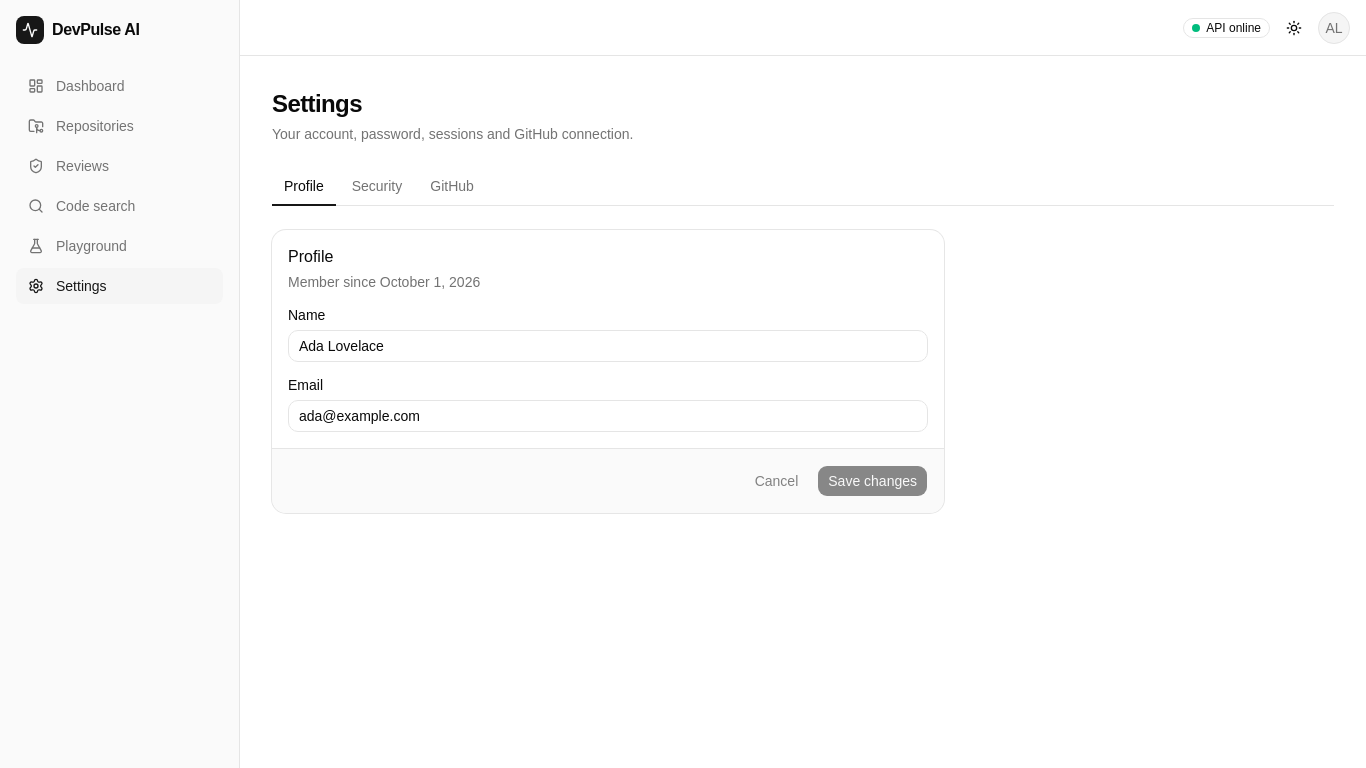
Test: Profile settings › asks for the current password when the email changes
Replace the text in the field labelled "Email" with "ada.king@example.com" at x=608, y=416, box [288,400,928,432]
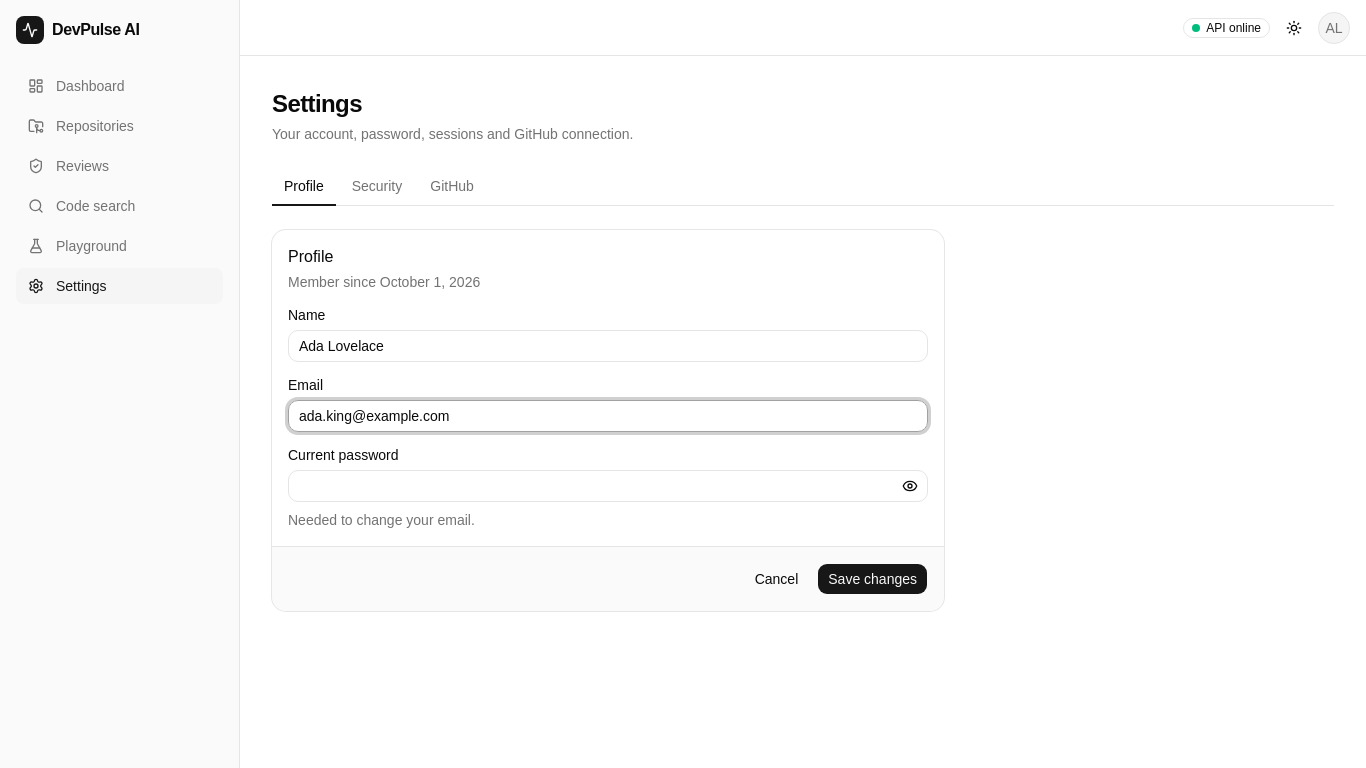
Expected: the password field labelled "Current password" is shown, [288,470,928,502]
Click the button "Save changes".
click(873, 579)  # box [817,563,928,595]
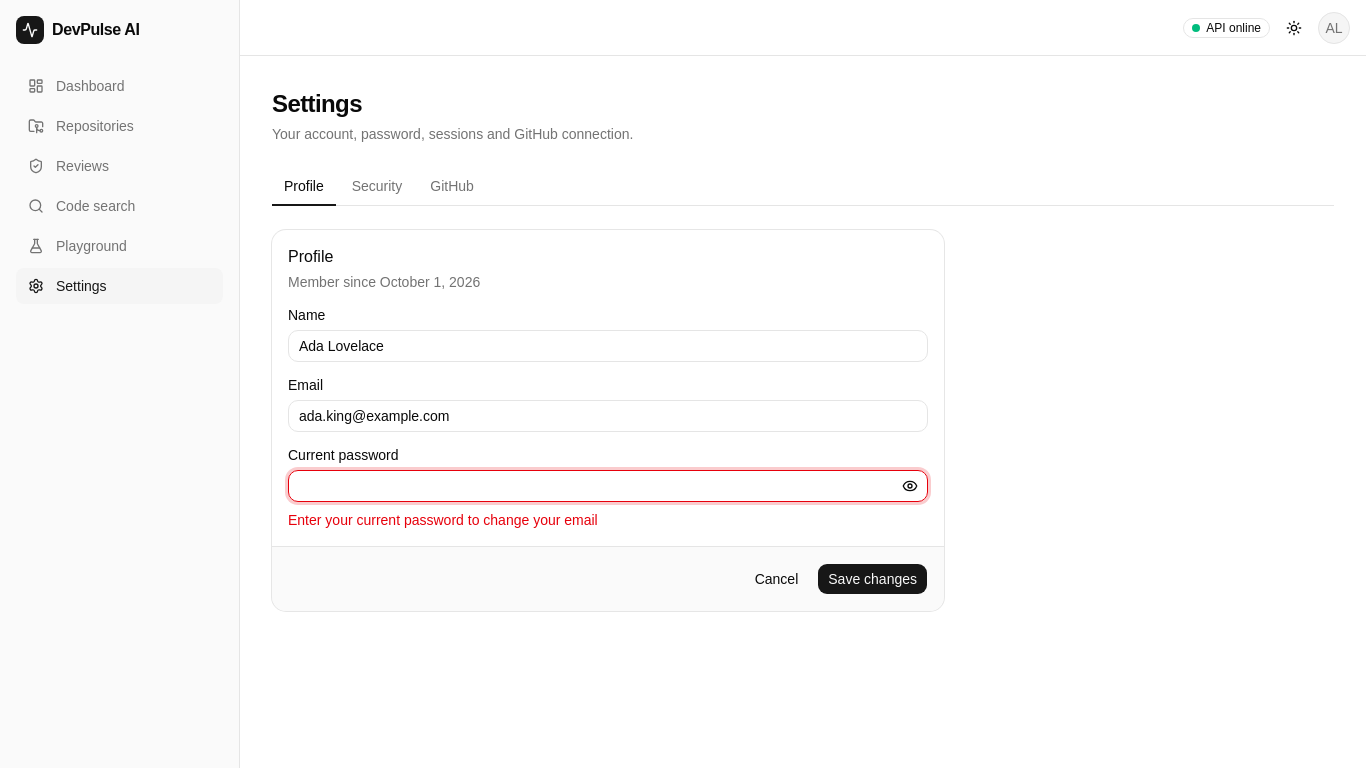
Expected: the text "Enter your current password to change your email" is shown, [288,512,598,528]
Type "wrong-password" into the password field labelled "Current password".
click(608, 486); type("wrong-password")  # box [288,470,928,502]
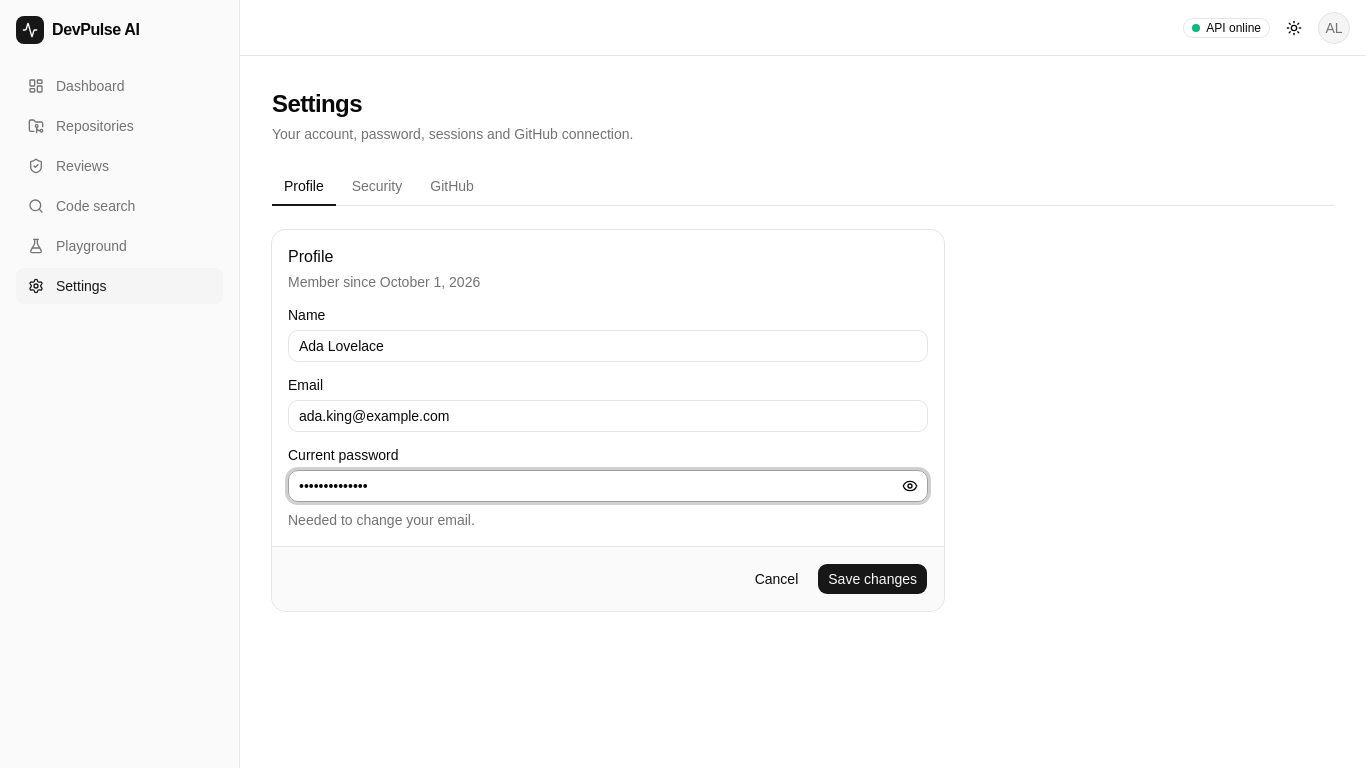
Click the button "Save changes".
click(873, 579)  # box [817,563,928,595]
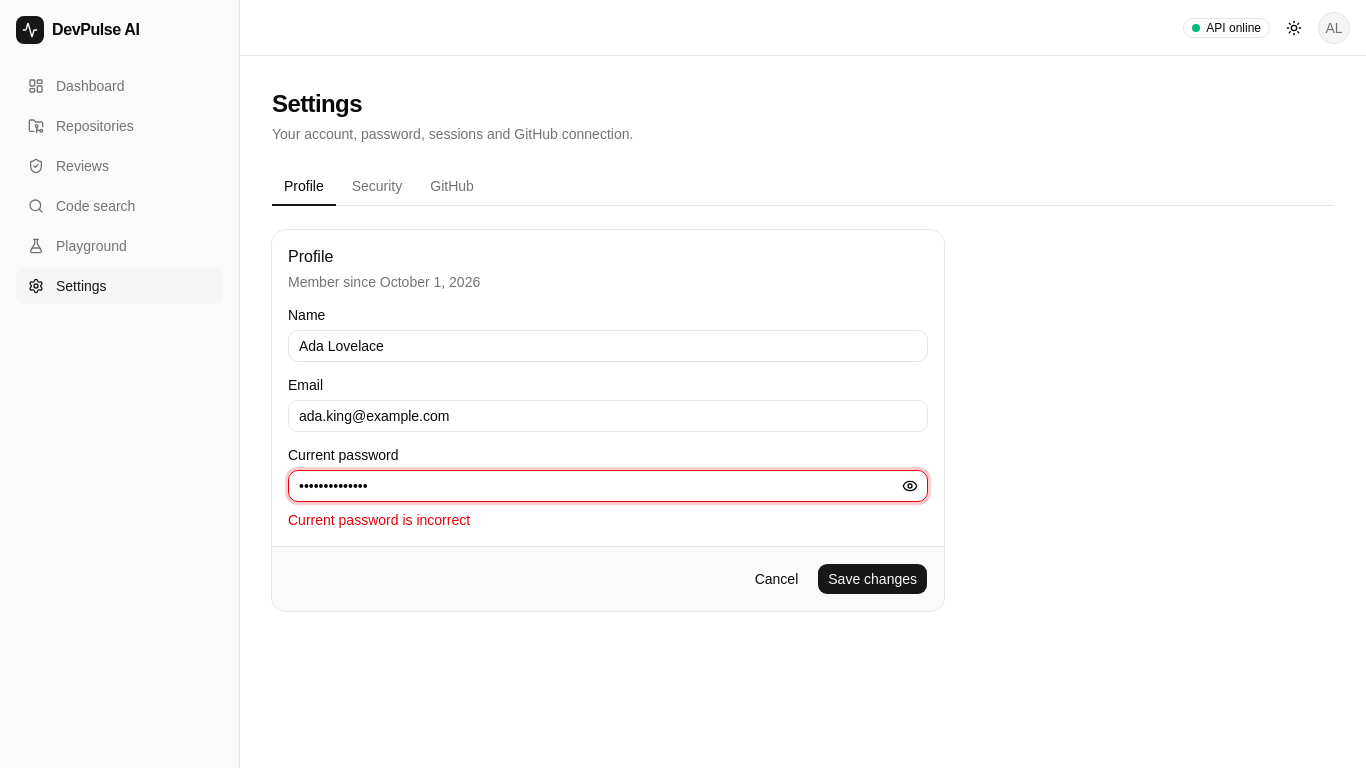
Expected: the text "Current password is incorrect" is shown, [288,512,470,528]
Type "Passw0rd!23" into the password field labelled "Current password".
click(608, 486); type("Passw0rd!23")  # box [288,470,928,502]
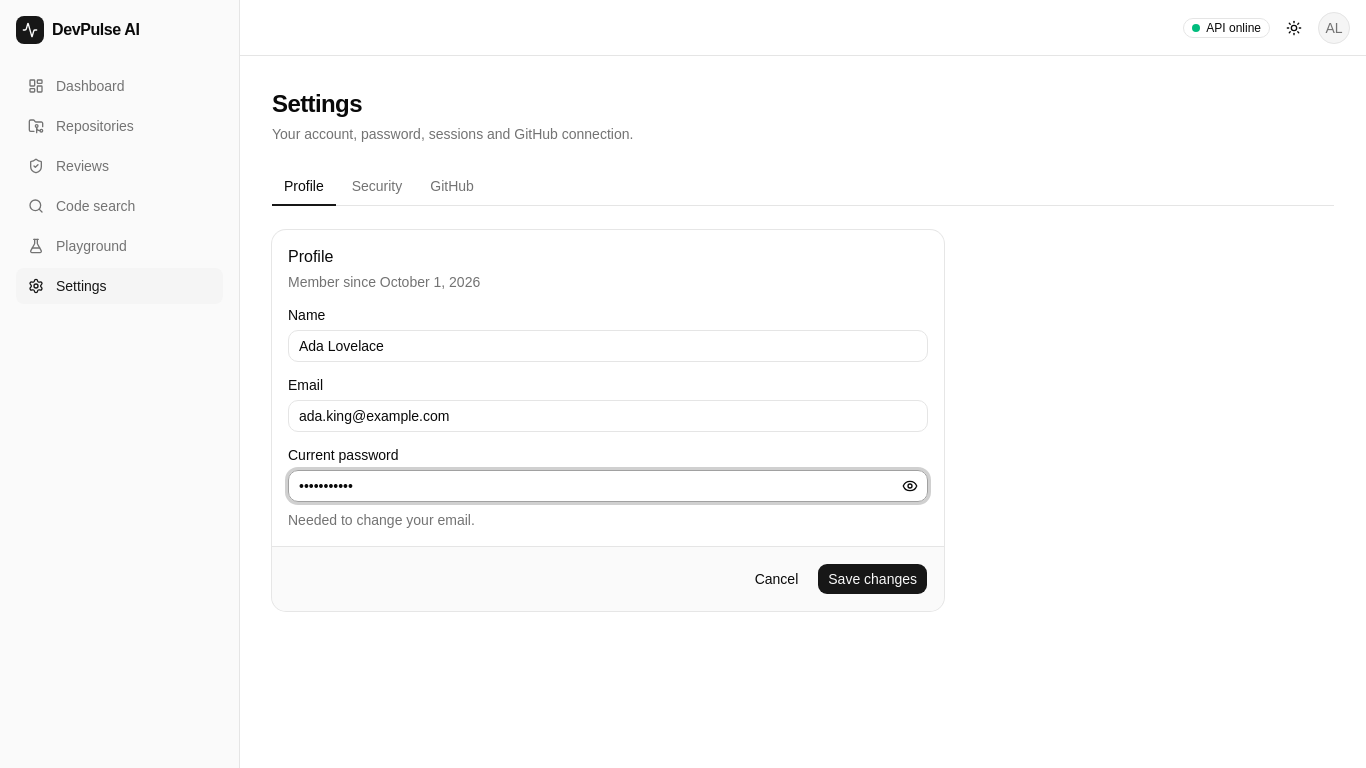
Click the button "Save changes".
click(873, 579)  # box [817,563,928,595]
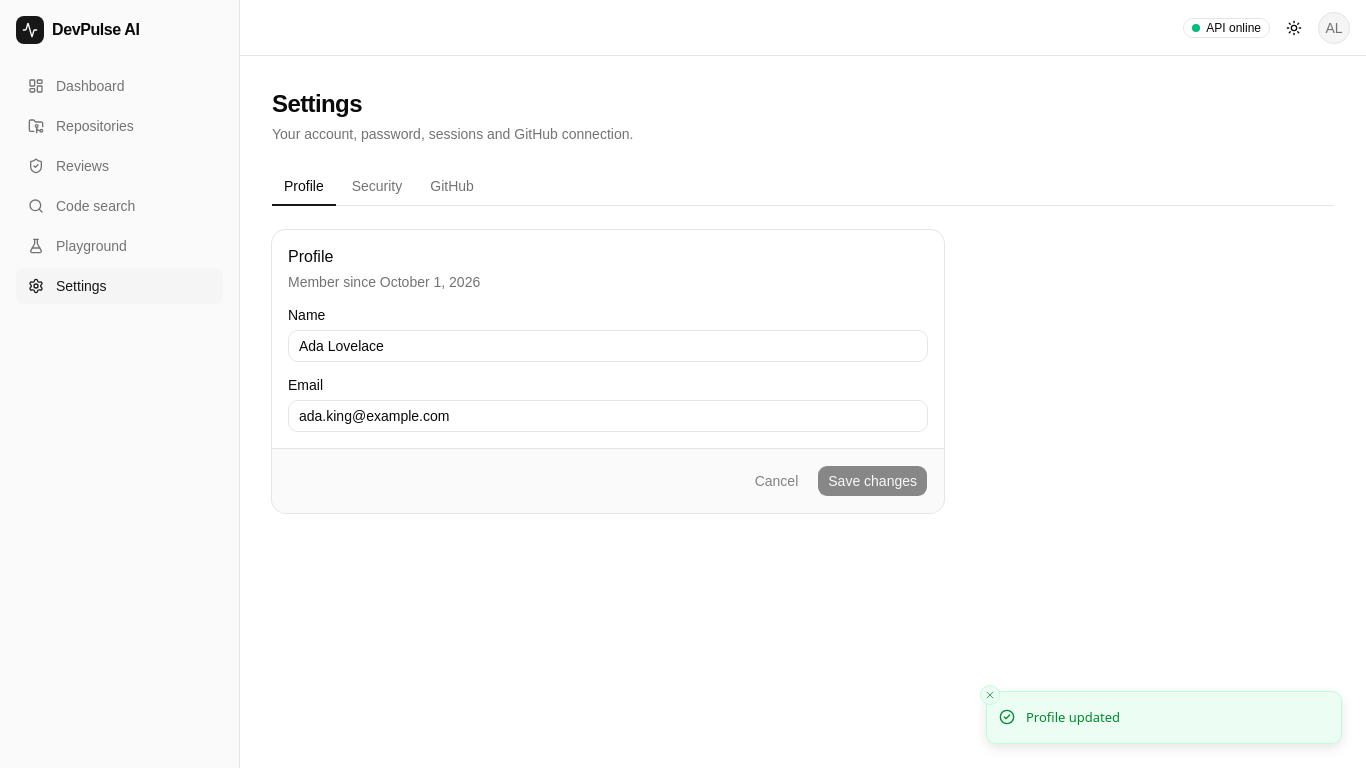
Expected: the text "Profile updated" is shown, [1026,708,1120,727]
Expected: the label labelled "Current password" is gone
